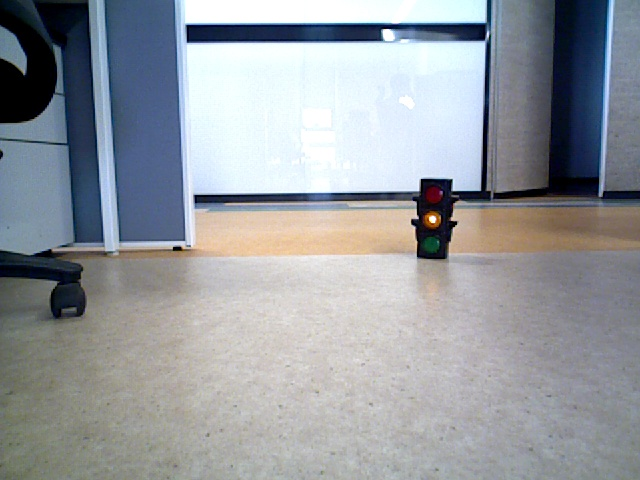yellow: (420, 182, 444, 254)
